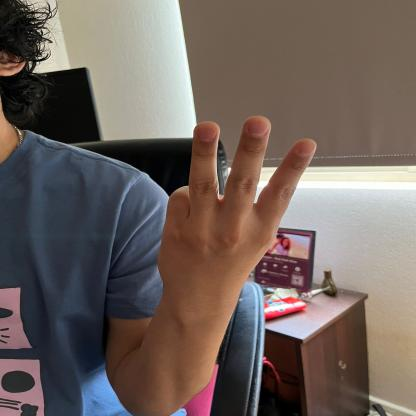W: (155, 111, 319, 308)
